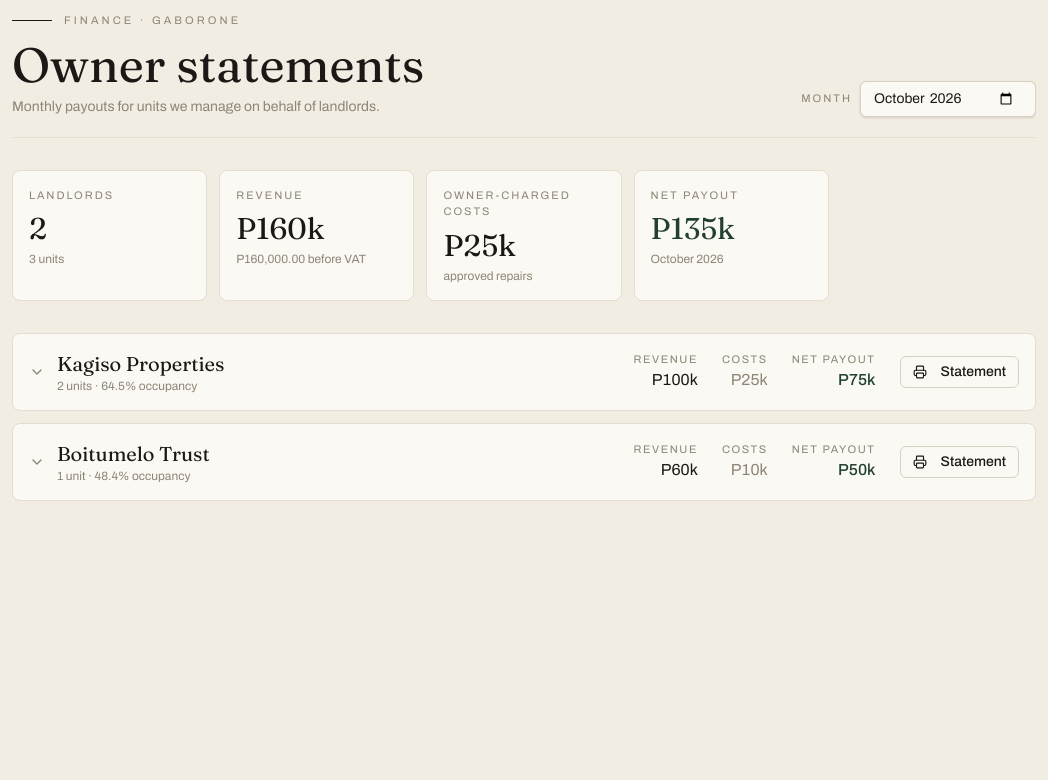
OwnerStatementsPage › expands a landlord to reveal its per-unit lines
Check: the text "A-101" is not shown
Step 1. Click the text "Kagiso Properties" → (141,364), box x1=57 y1=350 x2=224 y2=378
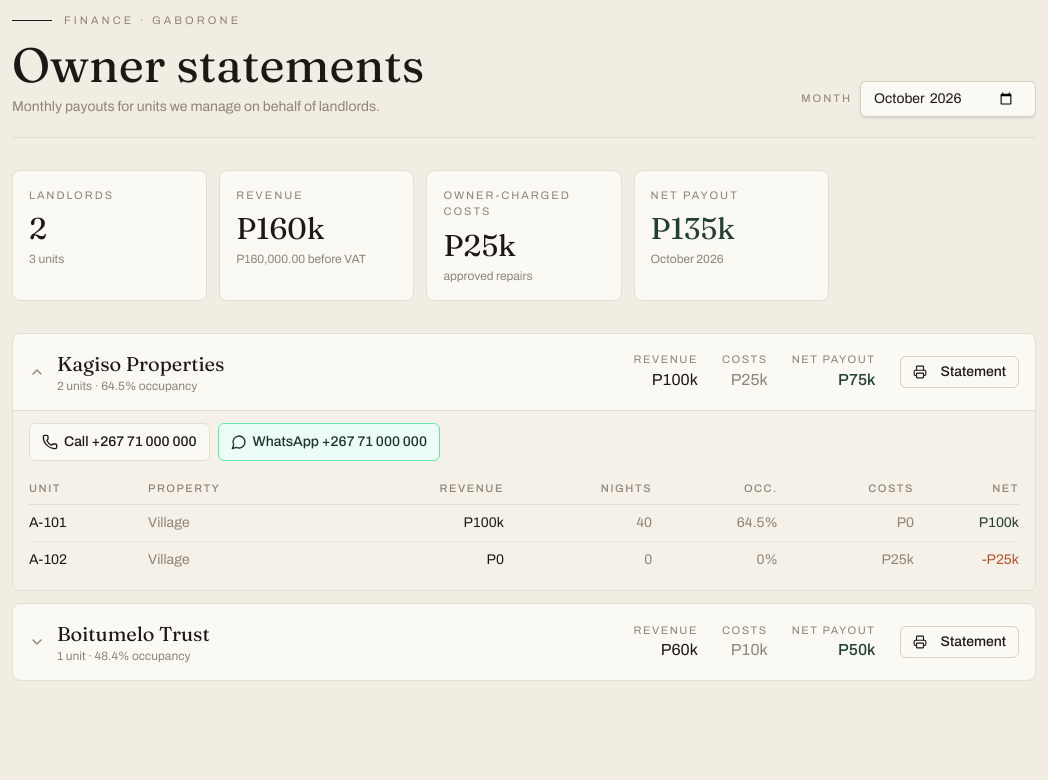
Check: the text "A-101" is shown, box x1=29 y1=505 x2=148 y2=542
Check: the text "A-102" is shown, box x1=29 y1=542 x2=148 y2=578
